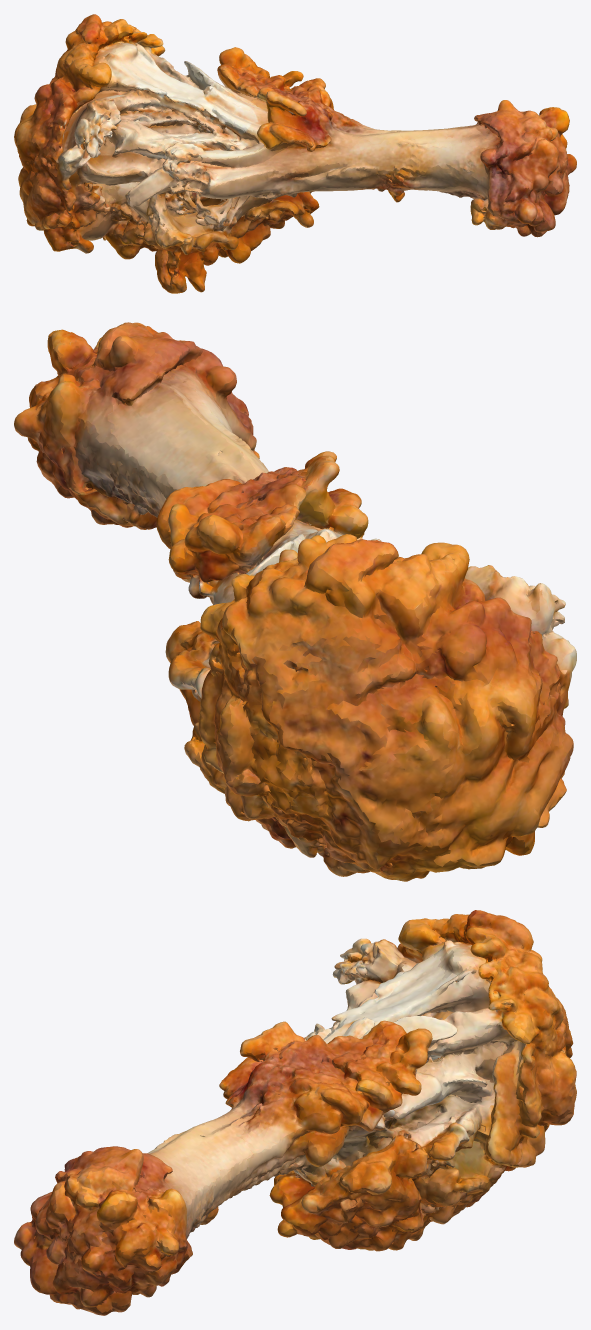
Rendered from crispy-chicken-2.glb.
The picture shows the model from 3 angles, top to bottom: view 1: azimuth 30°, elevation 25°; view 2: azimuth 150°, elevation 25°; view 3: azimuth 270°, elevation 25°; orthographic projection. The views are drawn at different scales.
Parts seen in each view (by area): view 1: FoodRedoV2Alignment-0; view 2: FoodRedoV2Alignment-0; view 3: FoodRedoV2Alignment-0.
Part boxes in pixels (x1,y1,x2,y2): FoodRedoV2Alignment-0: (14,14,576,293); FoodRedoV2Alignment-0: (14,322,576,881); FoodRedoV2Alignment-0: (14,910,576,1315).
Bounding box in the file's own units: 0.1311 × 0.0688 × 0.1155.
1 material, 1 textured.
